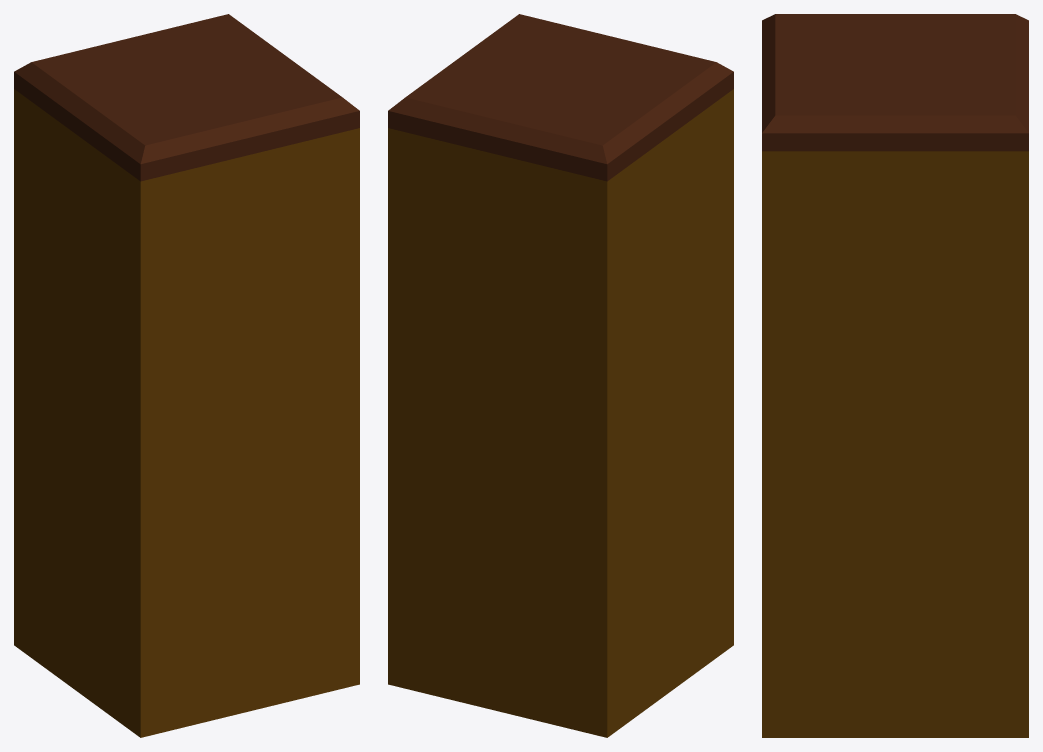
The model's file is Path1.fbx.
3 views of the same model, side by side, from view 1: azimuth 30°, elevation 25°; view 2: azimuth 150°, elevation 25°; view 3: azimuth 270°, elevation 25° (orthographic). The views are drawn at different scales.
Visible parts, largest first — view 1: Cube; view 2: Cube; view 3: Cube.
Boxes of the visible parts, x1,y1,x2,y2 form: Cube: [14, 14, 359, 737]; Cube: [388, 14, 733, 737]; Cube: [762, 14, 1028, 737].
Size of the model in its own units: 2 by 5.1 by 2.
